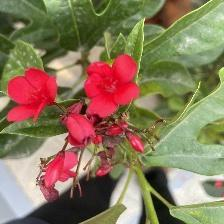jatropha: (83, 53, 144, 119), (6, 67, 63, 126)
